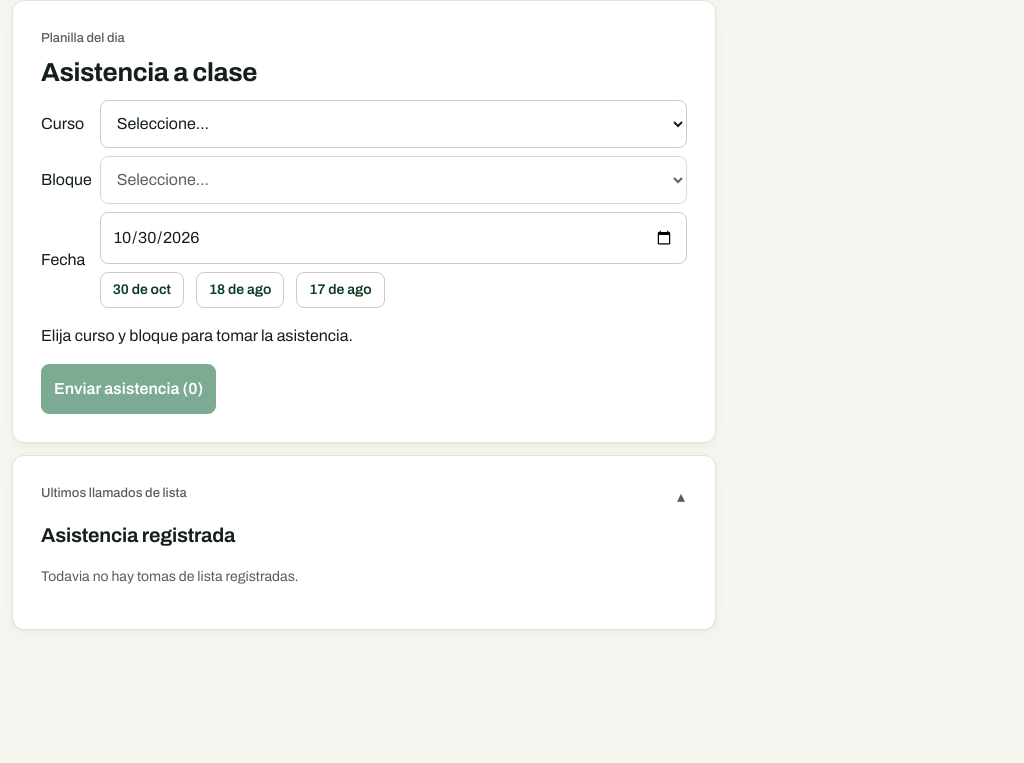
Scenario: TomarAsistencia › al elegir curso y bloque muestra solo los estudiantes de ese curso
The width and height of the screenshot is (1024, 763).
In the date field labelled "Fecha": (393, 238) x1=100 y1=212 x2=687 y2=264, type "2026-08-17"
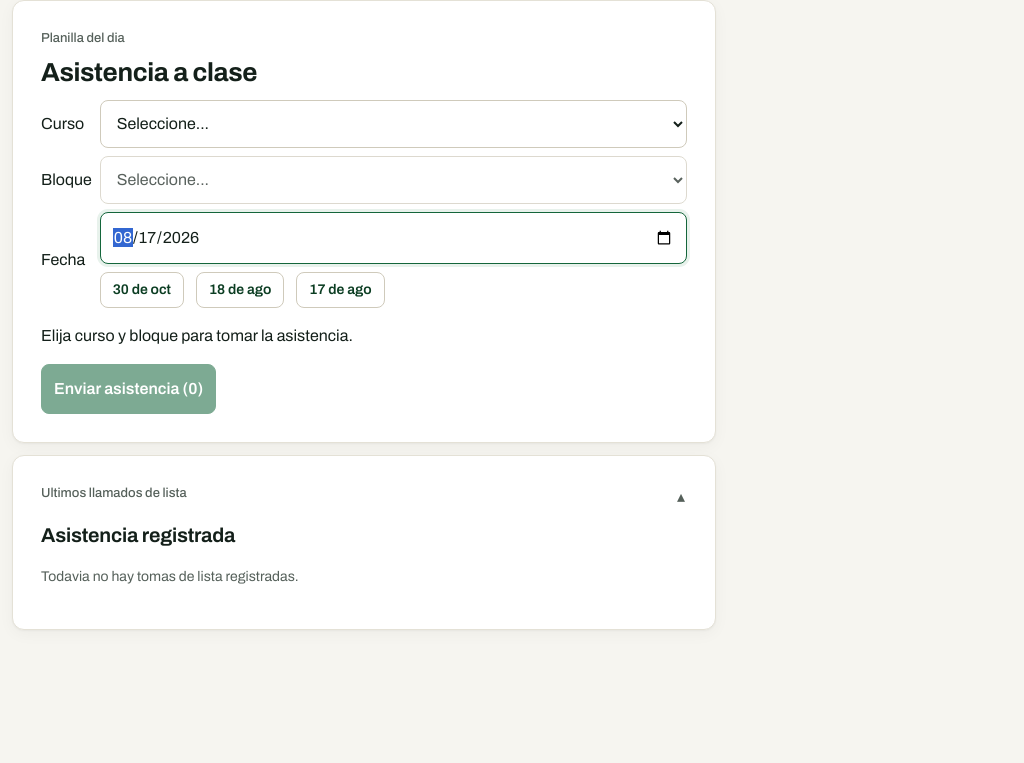
Select "601" in the dropdown labelled "Curso": (393, 124) x1=100 y1=100 x2=687 y2=148
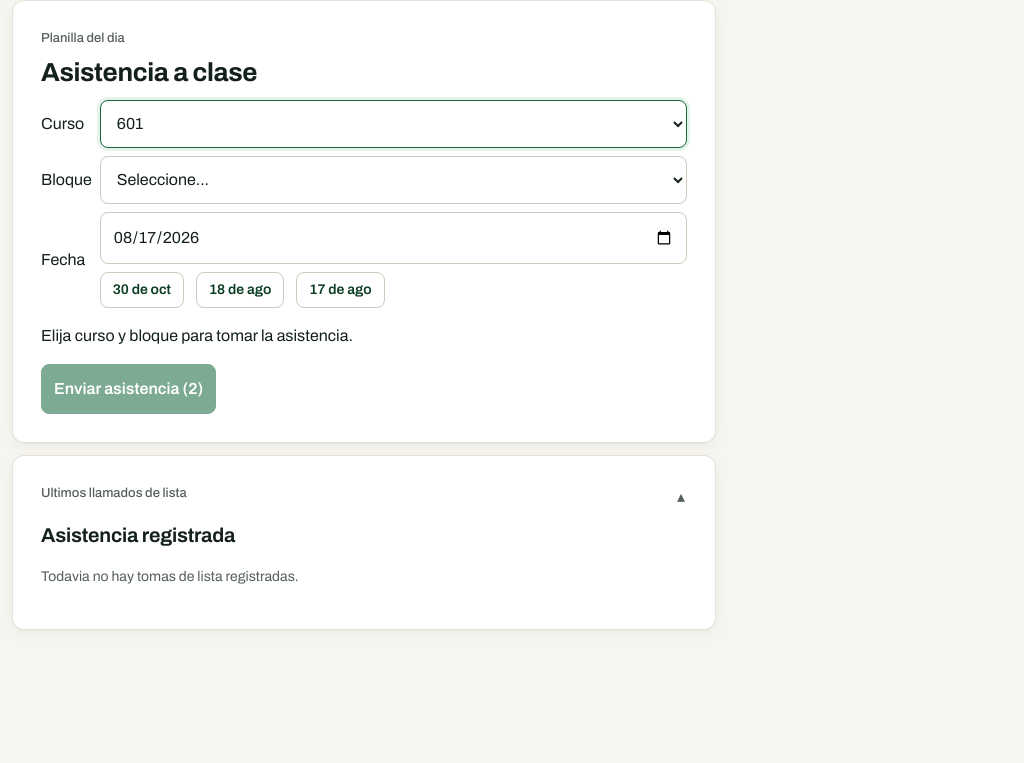
Expected: the dropdown labelled "Bloque" is enabled
Select "4. Ciencias (09:00) · Dia 1" in the dropdown labelled "Bloque": (393, 180) x1=100 y1=156 x2=687 y2=204
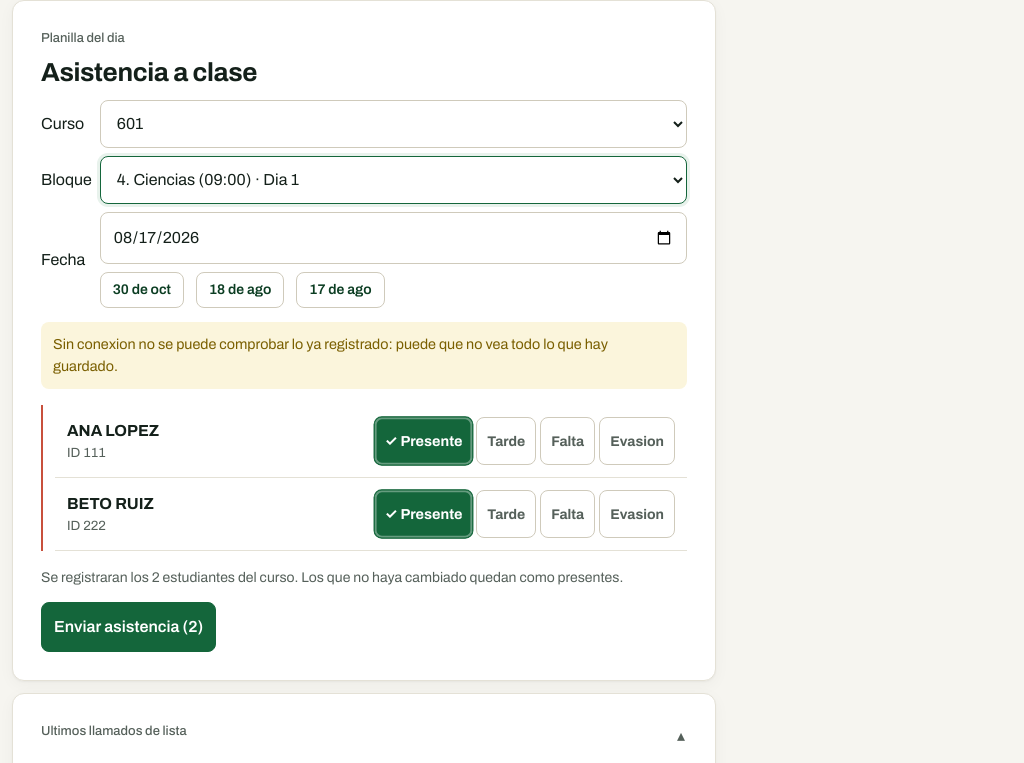
Expected: the text "ANA LOPEZ" is shown, x1=67 y1=422 x2=159 y2=439
Expected: the text "BETO RUIZ" is shown, x1=67 y1=495 x2=154 y2=512
